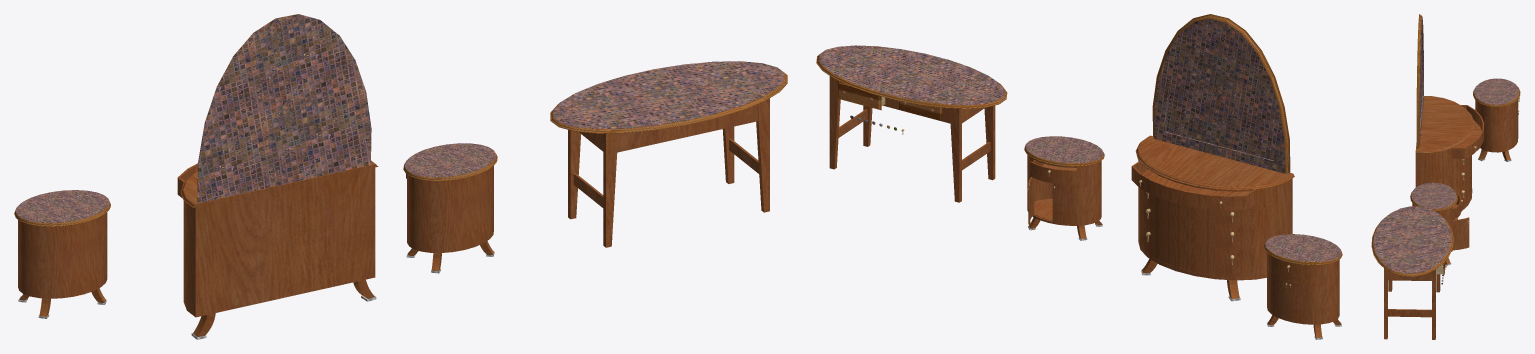
Rendered from dresser.FBX.
3 renders of one model, left to right at view 1: azimuth 30°, elevation 25°; view 2: azimuth 150°, elevation 25°; view 3: azimuth 270°, elevation 25°, orthographic. The views are drawn at different scales.
Visible parts, largest first — view 1: Group_158, Group_169, Group_149, Group_205, Group_186, Group_189, Group_208, Group_144, Group_143, Group_168, Group_146; view 2: Group_158, Group_149, Group_168, Group_170, Group_172, Group_176, Group_186, Group_205, Group_189, Group_208, Group_144, Group_174 (+9 smaller); view 3: Group_149, Group_168, Group_205, Group_208, Group_189, Group_158, Group_146, Group_176, Group_190, Group_145, Group_172, Group_186 (+4 smaller).
Part boxes in pixels (x1,y1,x2,y2): Group_158: (197,14,371,203); Group_169: (193,164,377,317); Group_149: (550,61,787,133); Group_205: (18,212,107,298); Group_186: (406,160,493,252); Group_189: (403,143,497,181); Group_208: (14,190,110,226); Group_144: (568,130,617,247); Group_143: (617,104,758,152); Group_168: (180,160,377,316); Group_146: (722,98,769,212); Group_158: (1152,14,1290,173); Group_149: (816,45,1007,108); Group_168: (1135,135,1294,280); Group_170: (1140,218,1255,276); Group_172: (1140,194,1255,248); Group_176: (1131,161,1255,210); Group_186: (1027,154,1101,225); Group_205: (1267,253,1339,324); Group_189: (1024,136,1104,166); Group_208: (1264,234,1342,265); Group_144: (950,105,995,202); Group_174: (1140,188,1255,224); Group_149: (1371,206,1453,276); Group_168: (1415,96,1474,211); Group_205: (1475,100,1518,152); Group_208: (1473,78,1520,106); Group_189: (1410,182,1457,211); Group_158: (1416,14,1423,148); Group_146: (1384,268,1435,339); Group_176: (1452,105,1484,159); Group_190: (1451,218,1469,250); Group_145: (1387,309,1431,317); Group_172: (1452,155,1471,190); Group_186: (1412,191,1461,251).
Size of the model in its own units: 199 by 82.84 by 58.3.
15 materials, 14 textured.
